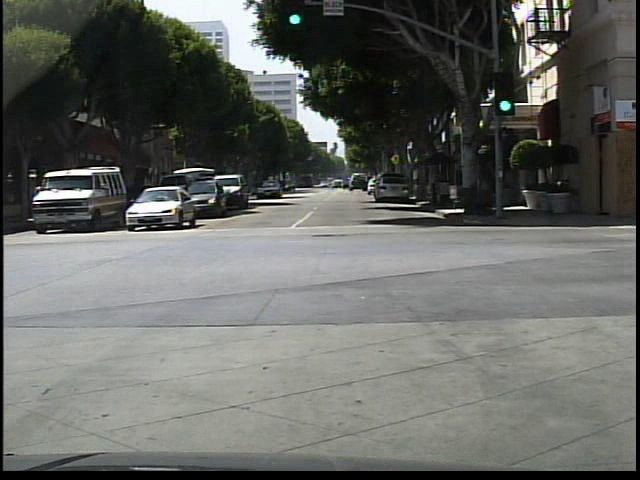person: (481, 160, 493, 214), (427, 167, 442, 208)
